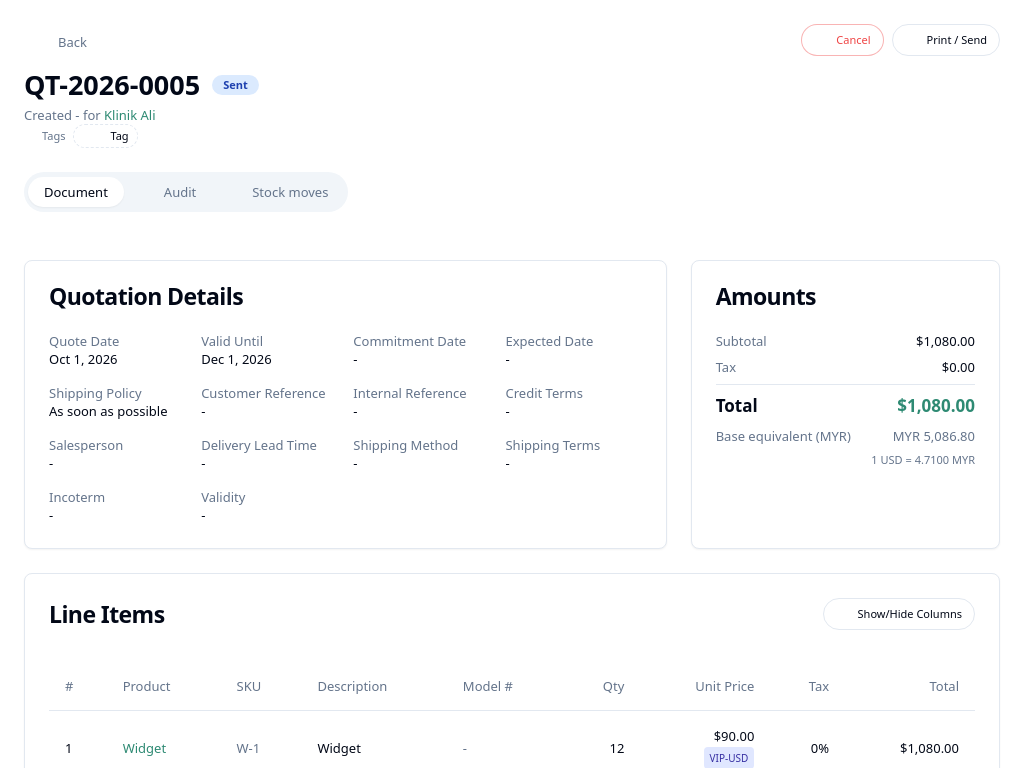
Price explanation popover on document detail pages (#342) › quotation detail hides margin from a role without pricelists.cost
Click the button with aria-label "how this price was set: VIP-USD": (729, 758) [704,746,754,767]
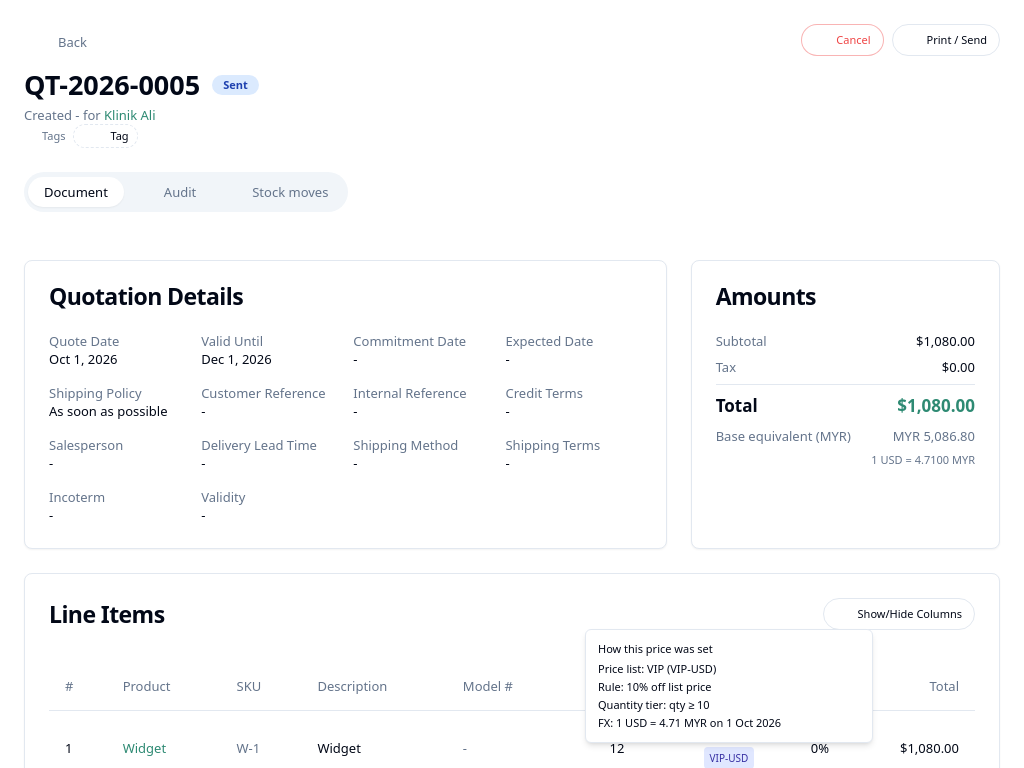
Expected: the list item "Quantity tier: qty ≥ 10" is shown, [598,697,710,712]
